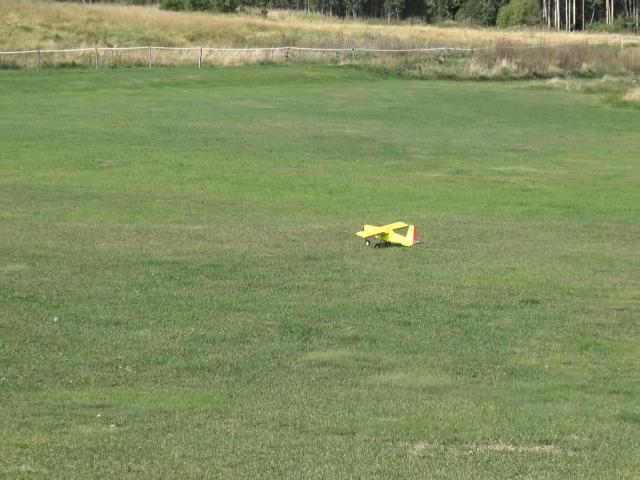plane: (356, 220, 419, 250)
